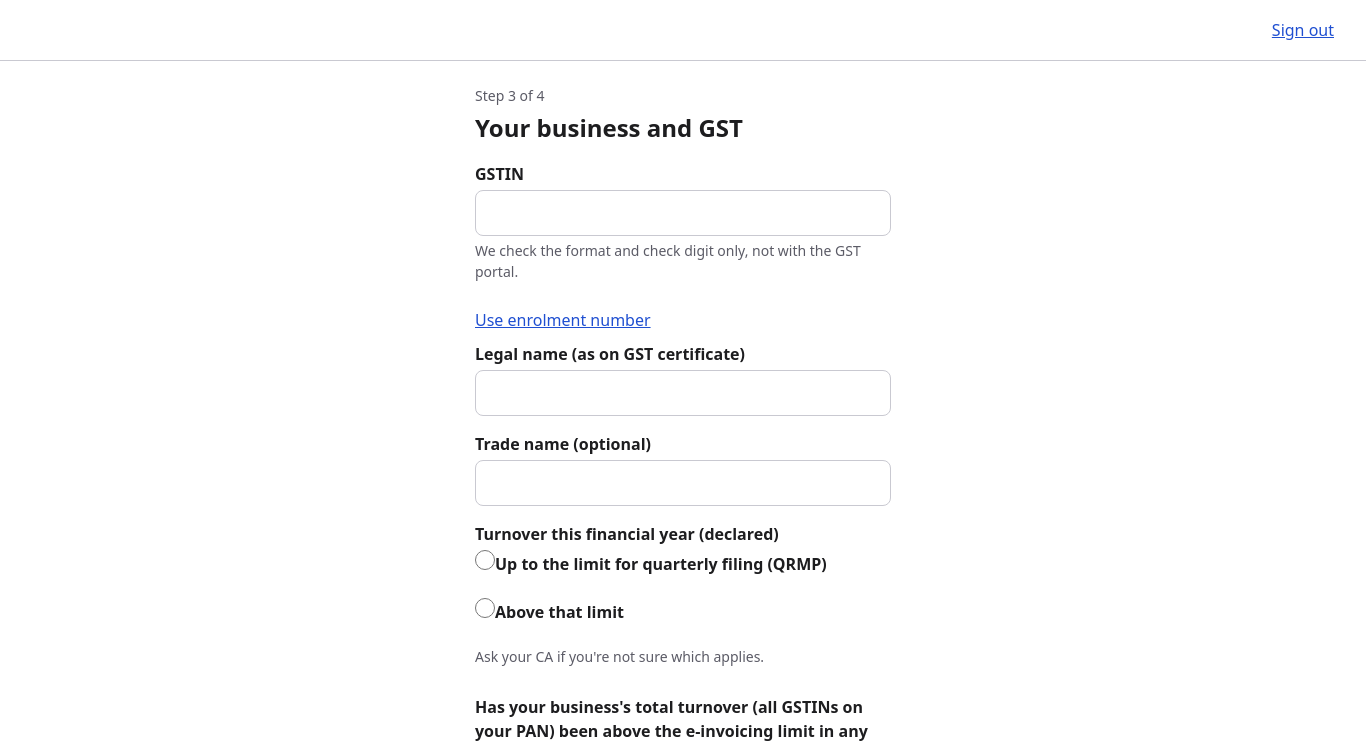
the GSTIN hint › shows the server's words for a wrong check character
Expected: the heading "Your business and GST" is shown, [475,111,743,144]
Type "27AAPFU0939F1ZA" into the field labelled "GSTIN" at (683, 213), box [475,190,891,236]
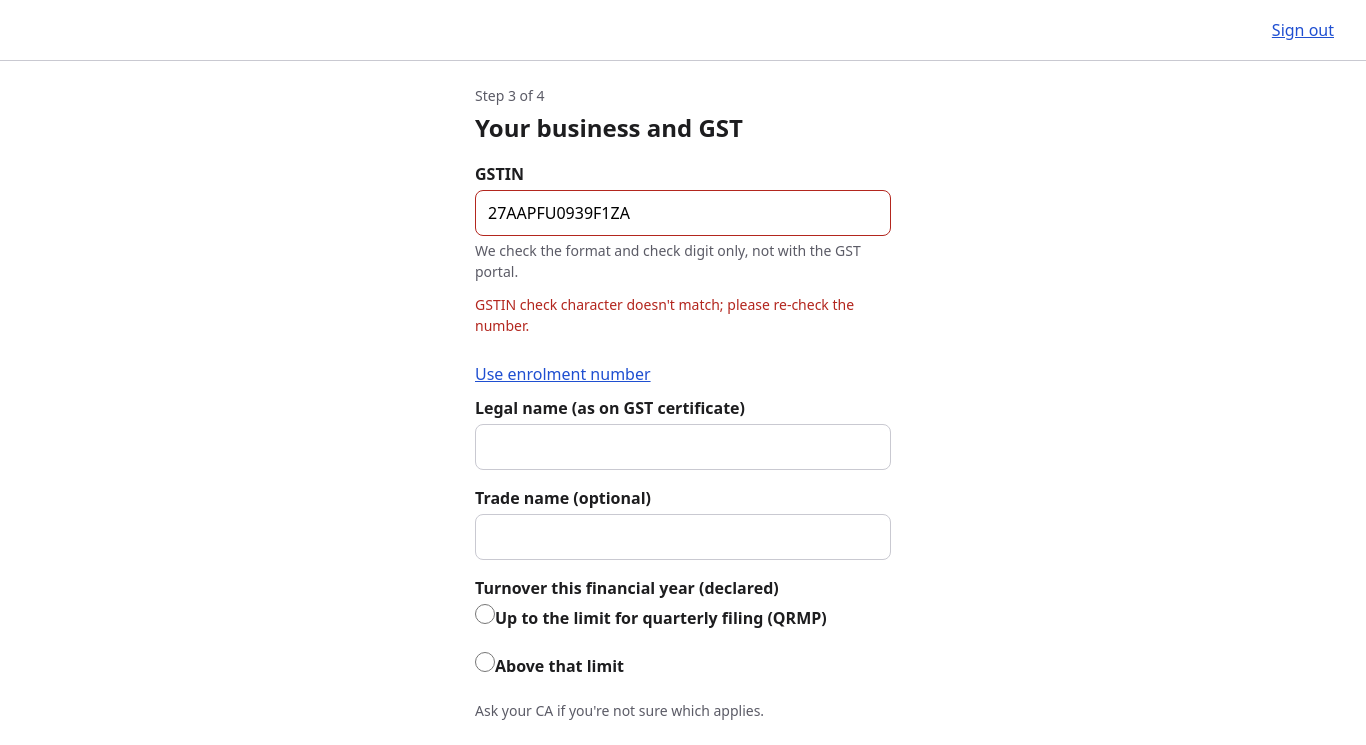
Expected: the text "GSTIN check character doesn't match; please re-check the number." is shown, [475,294,891,336]
